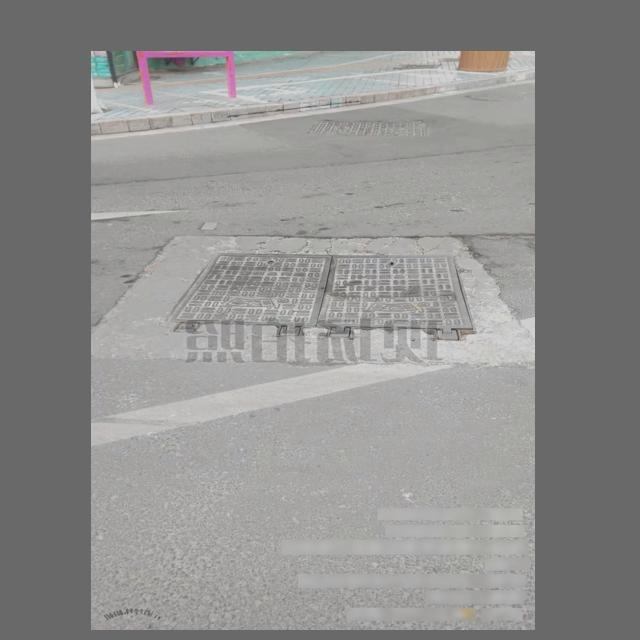good: (166, 253, 478, 342)
